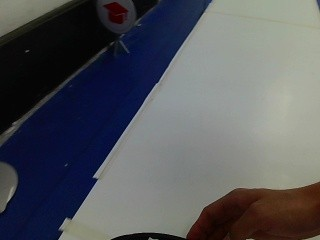school: (96, 0, 136, 35)
